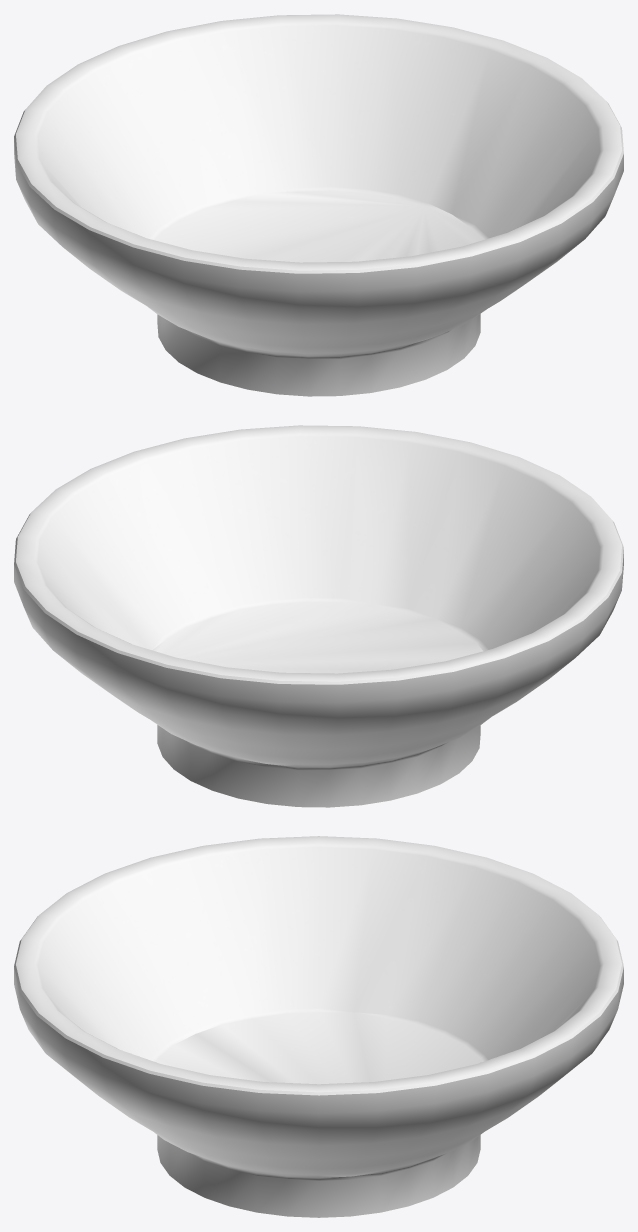
The model's file is KosuJKa V 2.0.fbx.
3 views of the same model, one above another, from view 1: azimuth 30°, elevation 25°; view 2: azimuth 150°, elevation 25°; view 3: azimuth 270°, elevation 25° (orthographic).
Visible parts, largest first — view 1: Cylinder; view 2: Cylinder; view 3: Cylinder.
Part boxes in pixels (x1,y1,x2,y2): Cylinder: (14,14,623,396); Cylinder: (14,425,623,807); Cylinder: (14,836,623,1217).
Size of the model in its own units: 18.88 by 6.35 by 18.87.
Materials: 1 (1 with a texture image).
